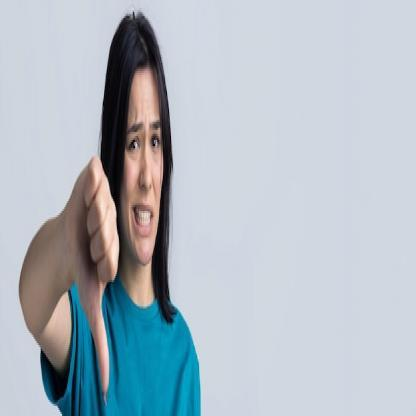thumb_down: (60, 149, 121, 406)
